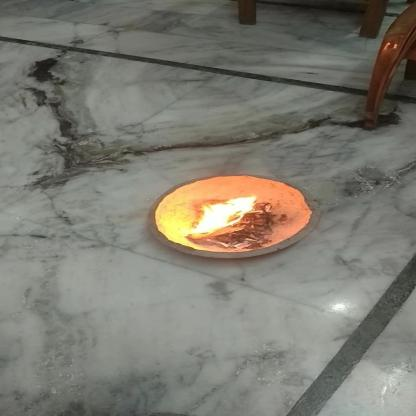fire: (190, 192, 259, 238)
